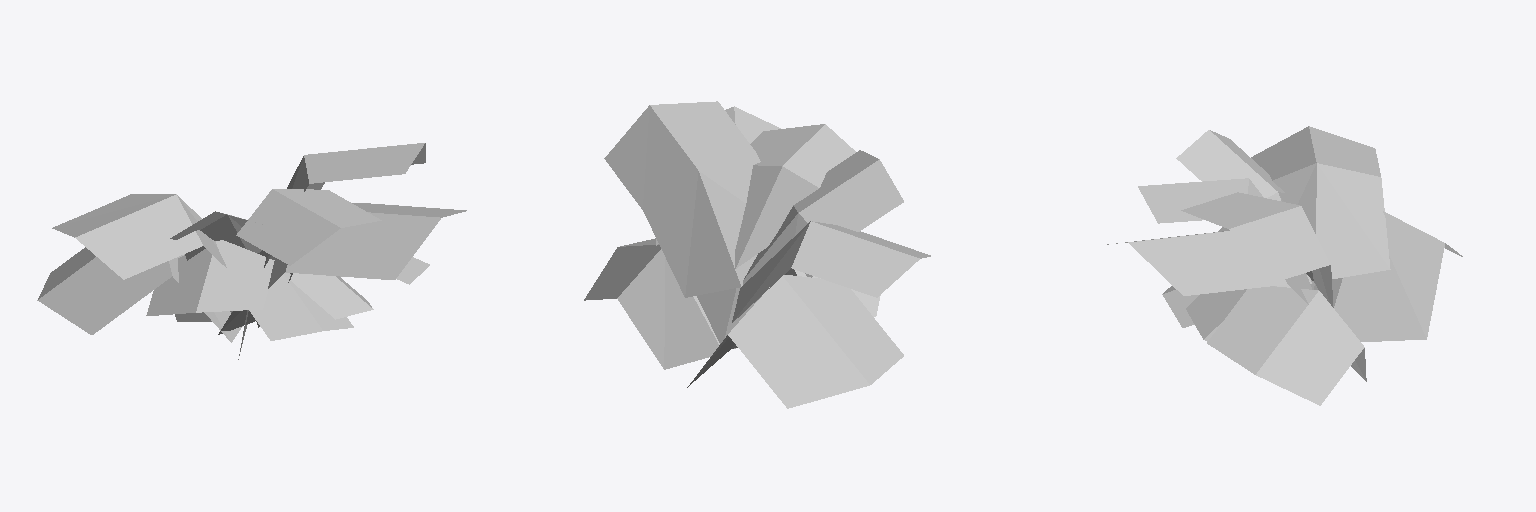
Rendered from prop_agave_l.obj.
3 renders of one model, left to right at view 1: azimuth 30°, elevation 25°; view 2: azimuth 150°, elevation 25°; view 3: azimuth 270°, elevation 25°, orthographic.
Size of the model in its own units: 1.48 by 0.8247 by 1.43.